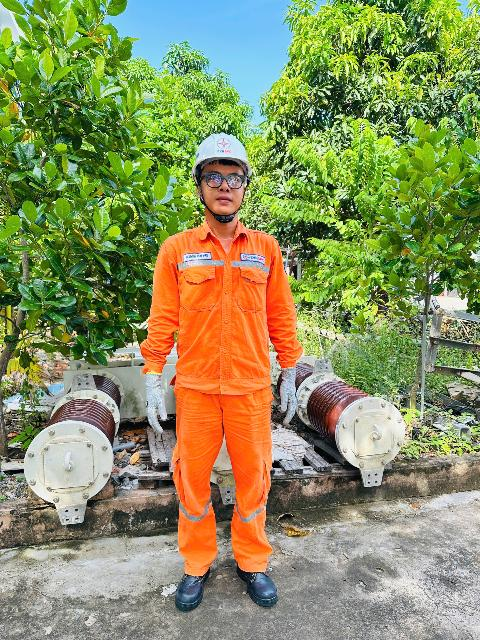gloves: (128, 371, 178, 442), (273, 366, 319, 434)
helmet: (178, 119, 265, 186)
shoes: (231, 539, 288, 608), (169, 548, 216, 618)
